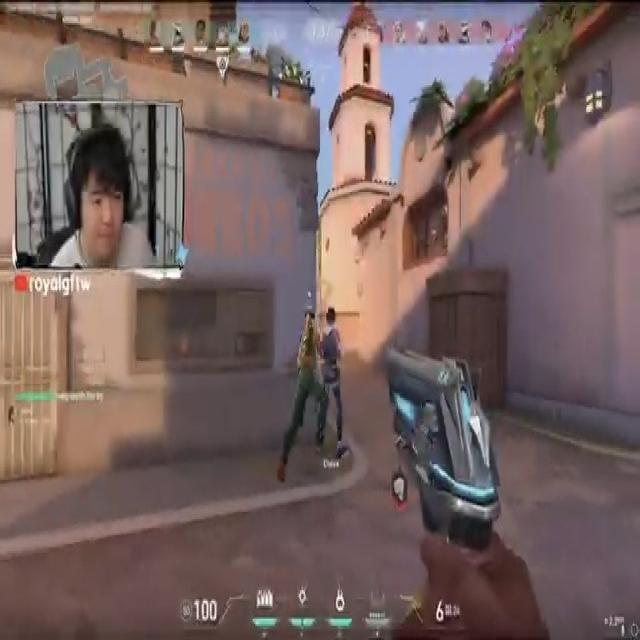ally: (277, 307, 328, 487), (313, 295, 349, 457)
